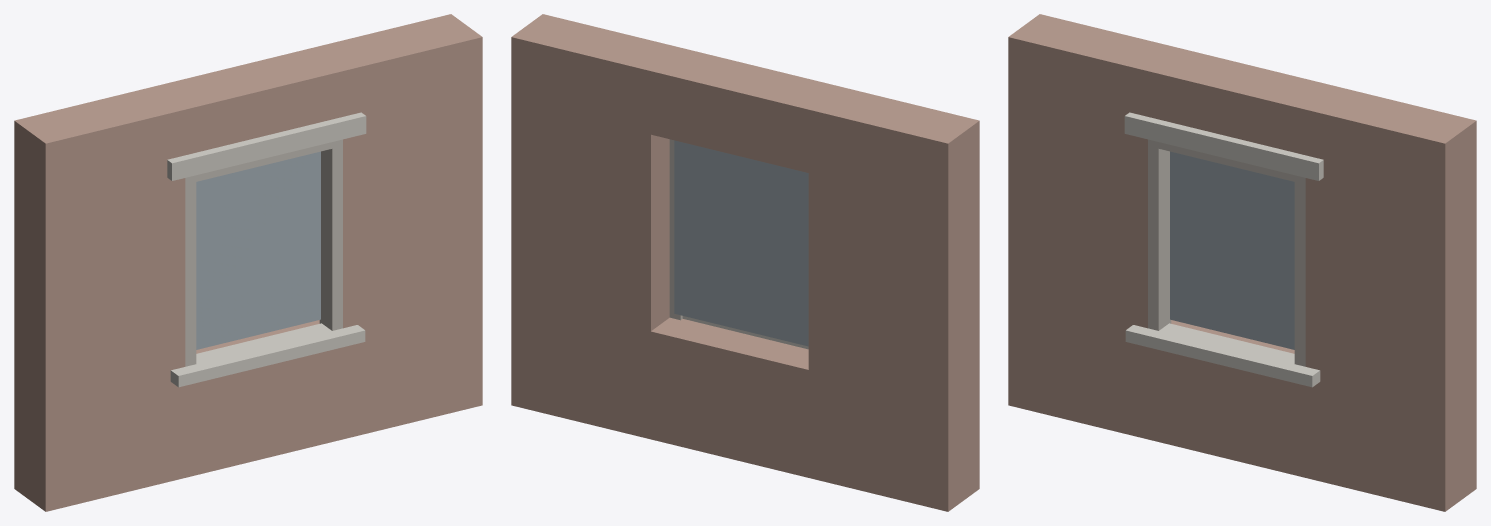
File: bay_brick_residential.glb
The picture shows the model from 3 angles, left to right: view 1: azimuth 30°, elevation 25°; view 2: azimuth 150°, elevation 25°; view 3: azimuth 330°, elevation 25°; orthographic projection.
Visible parts, largest first — view 1: facade_bay_brick_residential; view 2: facade_bay_brick_residential; view 3: facade_bay_brick_residential.
Part boxes in pixels (box(x1,y1,x2,y2)): facade_bay_brick_residential: box(14, 14, 482, 511); facade_bay_brick_residential: box(511, 14, 979, 511); facade_bay_brick_residential: box(1008, 14, 1476, 511).
Size of the model in its own units: 3.6 by 2.9 by 0.5599.
